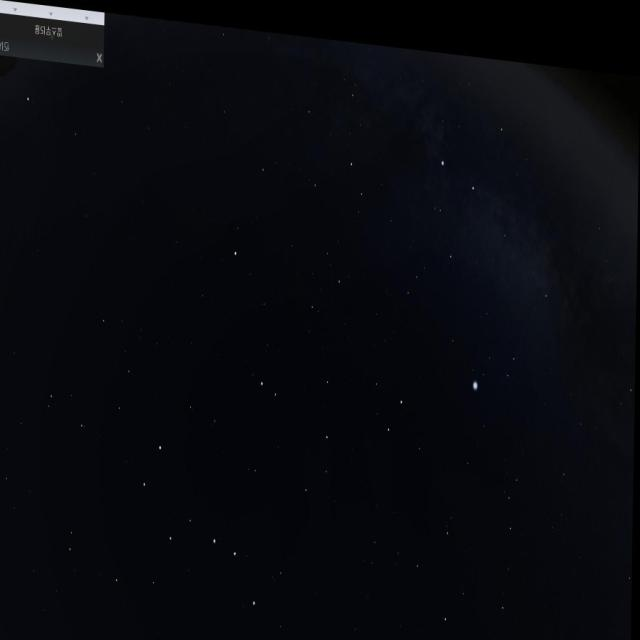cygnus: (428, 87, 558, 290)
lyra: (471, 317, 525, 389)
ursa_major: (138, 427, 275, 612)
